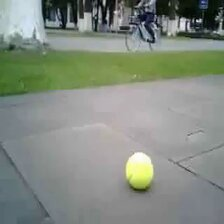tennis: (125, 152, 154, 190)
